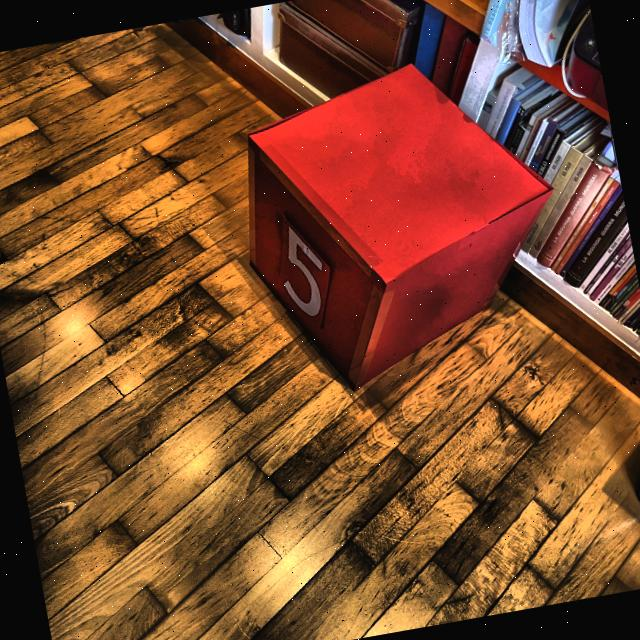five: (272, 220, 332, 321)
red box: (222, 46, 574, 406)
